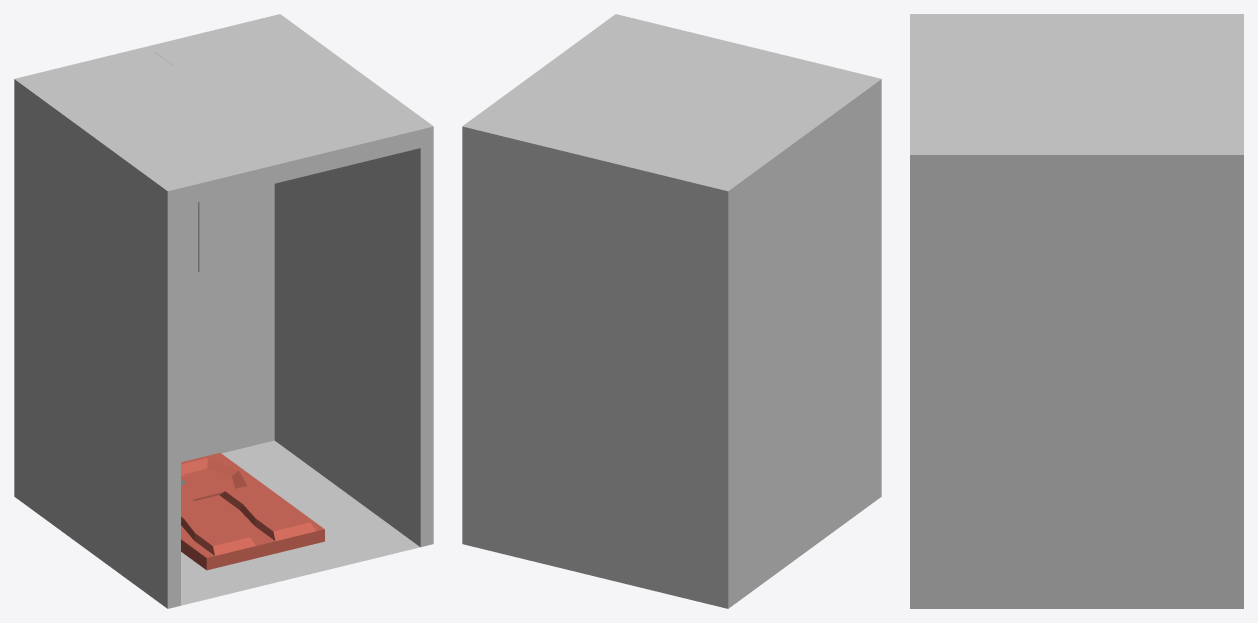
The model's file is turc.fbx.
3 views of the same model, side by side, from view 1: azimuth 30°, elevation 25°; view 2: azimuth 150°, elevation 25°; view 3: azimuth 270°, elevation 25° (orthographic). The views are drawn at different scales.
Parts seen in each view (by area): view 1: Plane, Cube; view 2: Plane; view 3: Plane.
Part boxes in pixels (x1,y1,x2,y2): Plane: (14,14,433,608); Cube: (181,453,324,570); Plane: (462,14,881,608); Plane: (910,14,1243,608).
Size of the model in its own units: 4.5 by 6.76 by 4.5.
